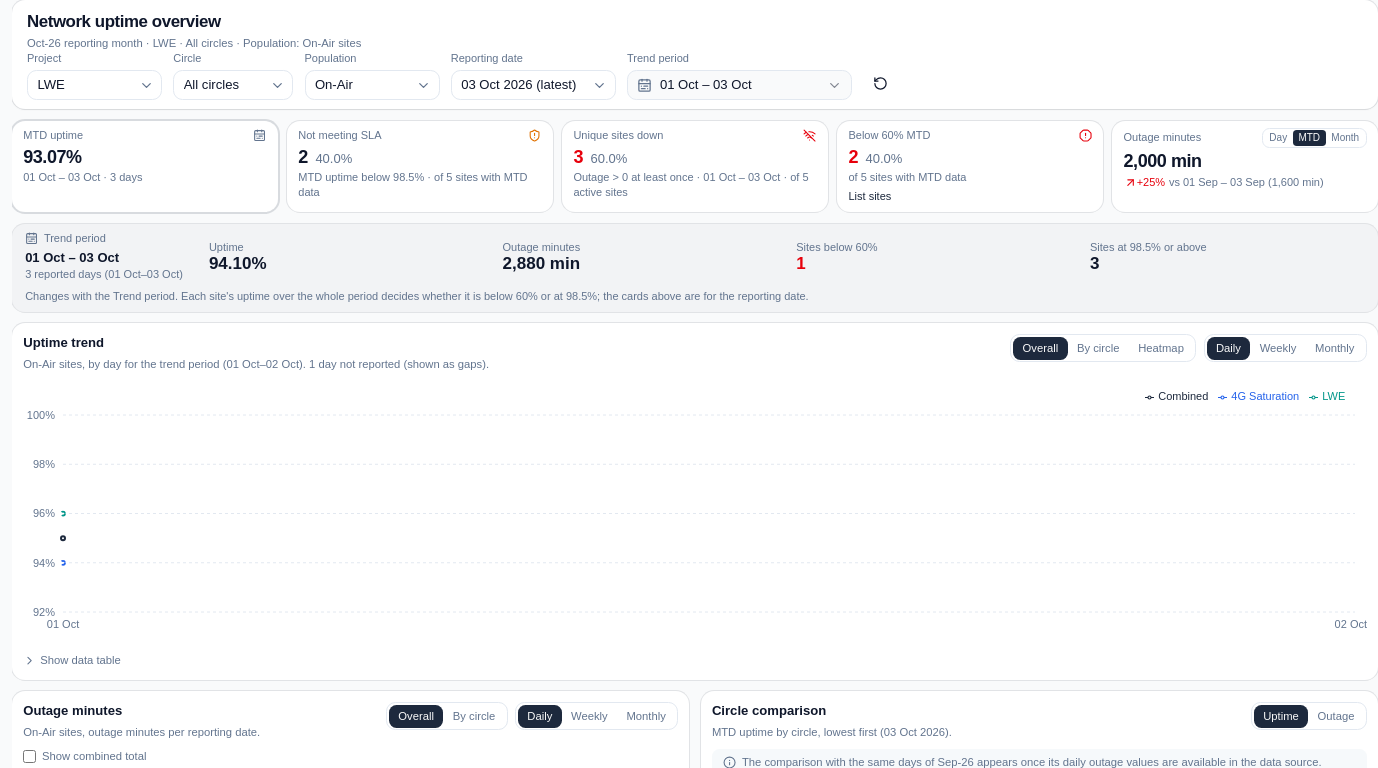
Test case: DashboardPage › opens the bucket drill-down from the "List sites" KPI action
This screenshot has width=1378, height=768.
Click the button "List sites".
click(870, 197)  # box [848,189,891,205]
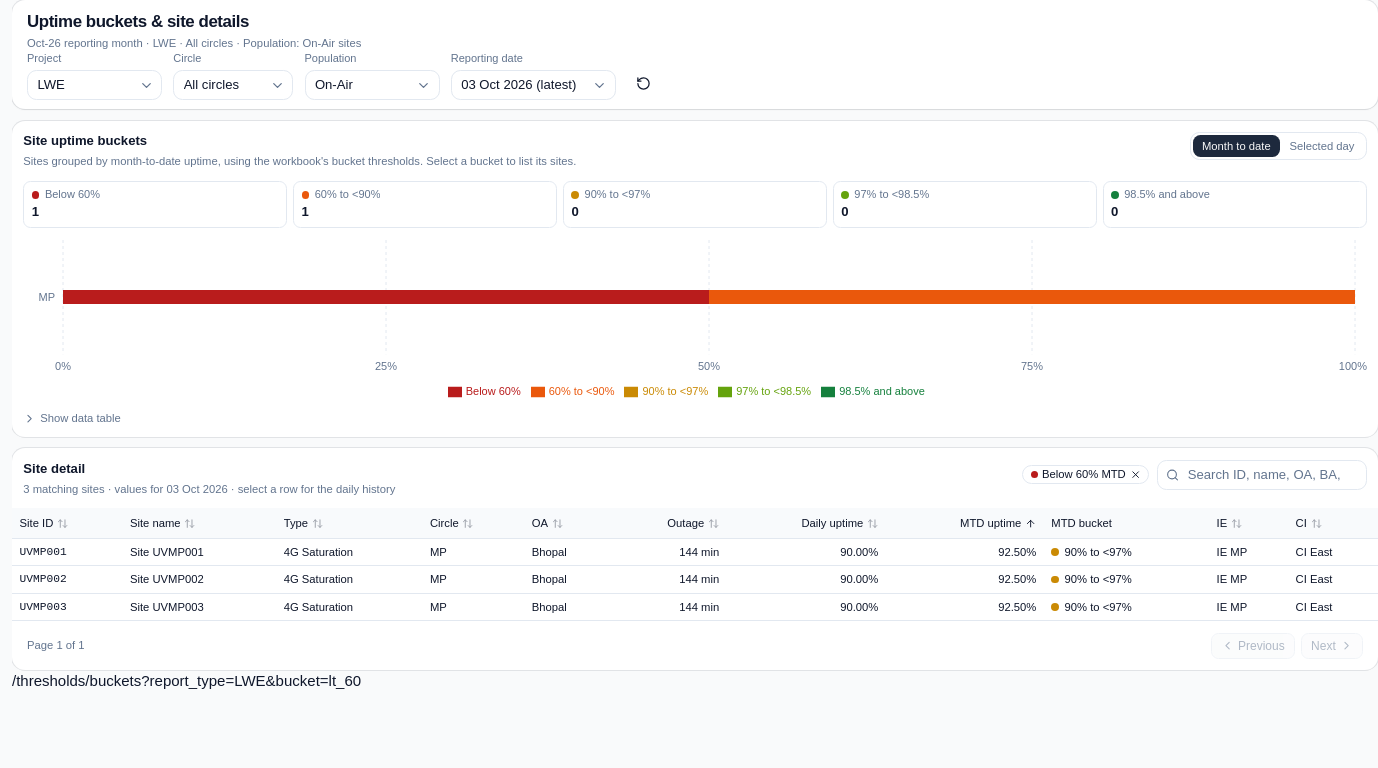
Now the text with test id "location" reads "/thresholds/buckets?report_type=LWE&bucket=lt_60", box [12,672,361,689]
